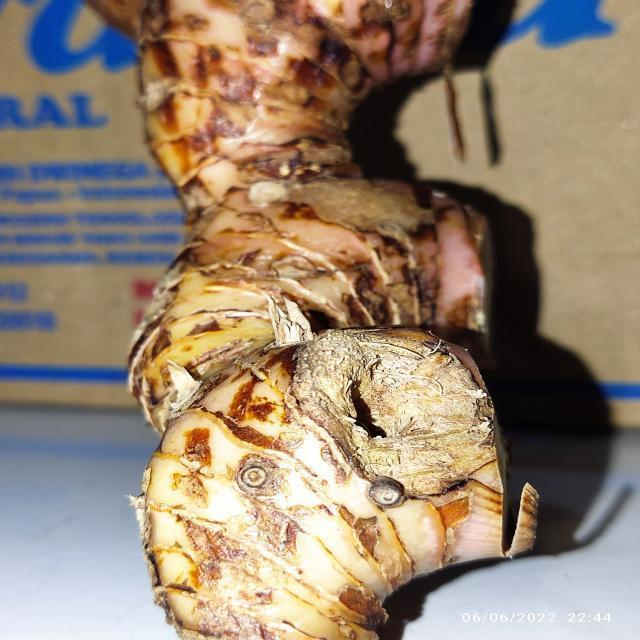ginger: (135, 16, 522, 604)
